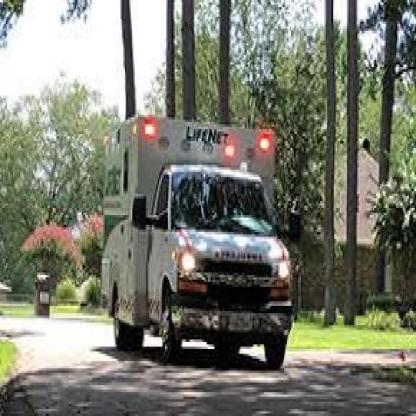priority: (129, 105, 293, 358)
